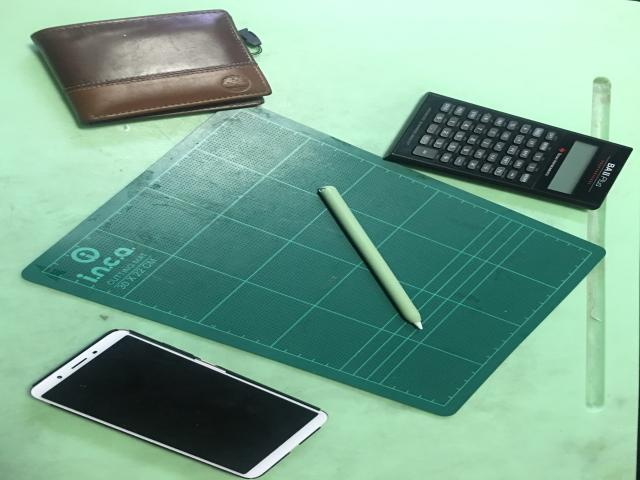Mobile phone: (32, 330, 327, 478)
Wallet: (32, 9, 272, 124)
